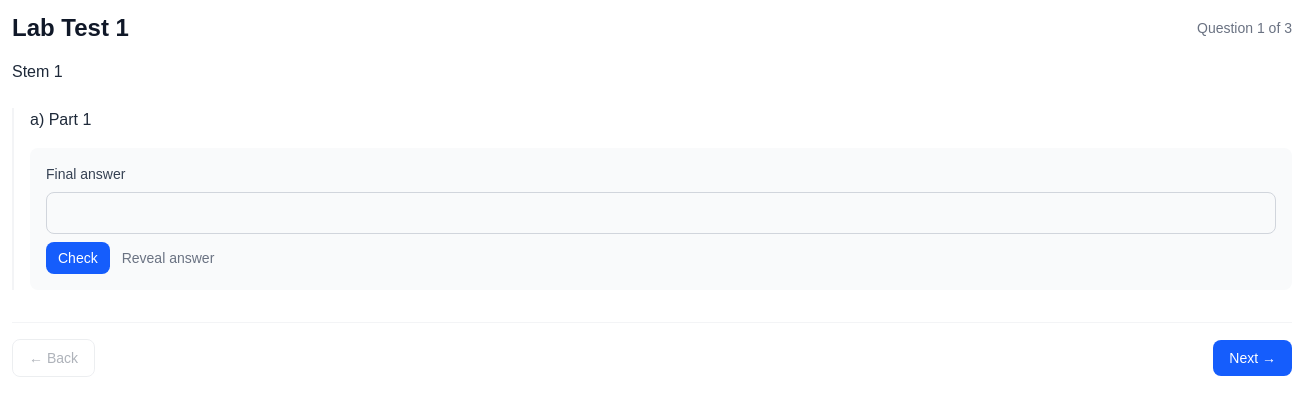
Test: PracticeRunner › moves forward and back between questions
The image size is (1304, 394).
Click the button "Next →".
click(1253, 358)  # box x1=1213 y1=340 x2=1292 y2=376
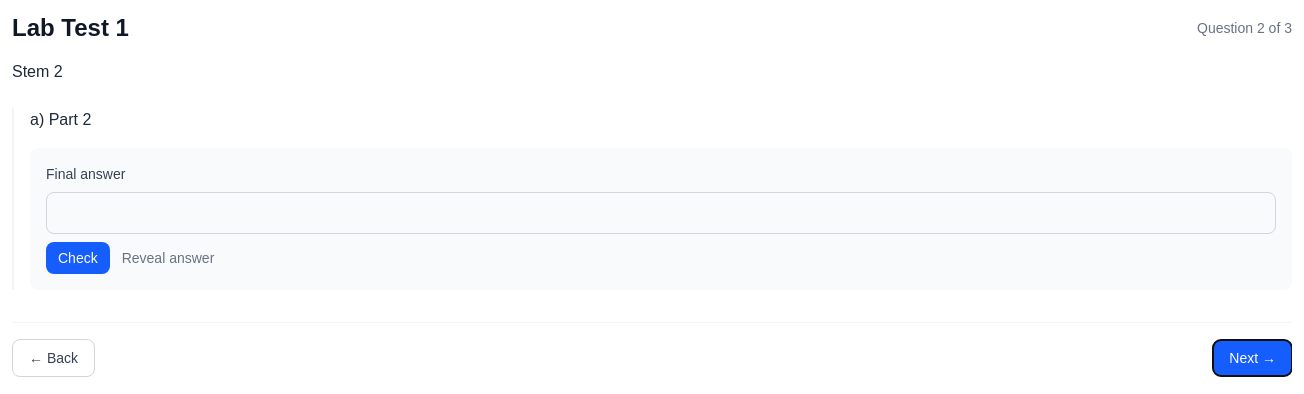
expect the text "Question 2 of 3" is shown: met, box x1=1197 y1=18 x2=1292 y2=38
expect the text "Stem 2" is shown: met, box x1=12 y1=63 x2=63 y2=80
Click the button "← Back".
click(54, 358)  # box x1=12 y1=339 x2=95 y2=377
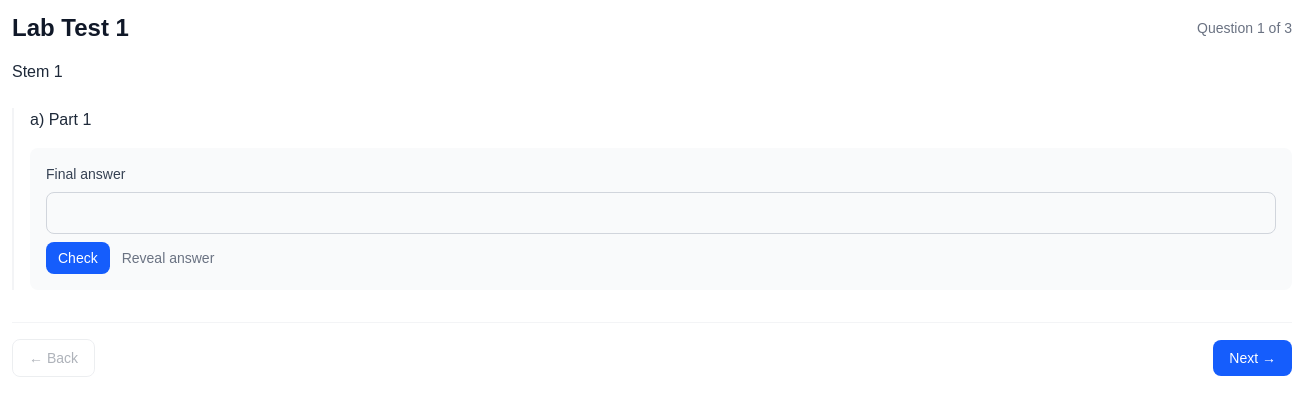
expect the text "Question 1 of 3" is shown: met, box x1=1197 y1=18 x2=1292 y2=38
